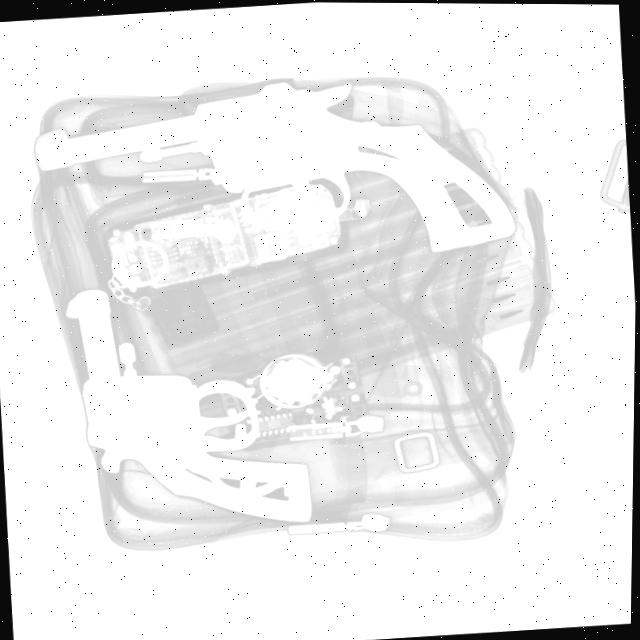pistol: (22, 59, 529, 285), (60, 272, 321, 539)
